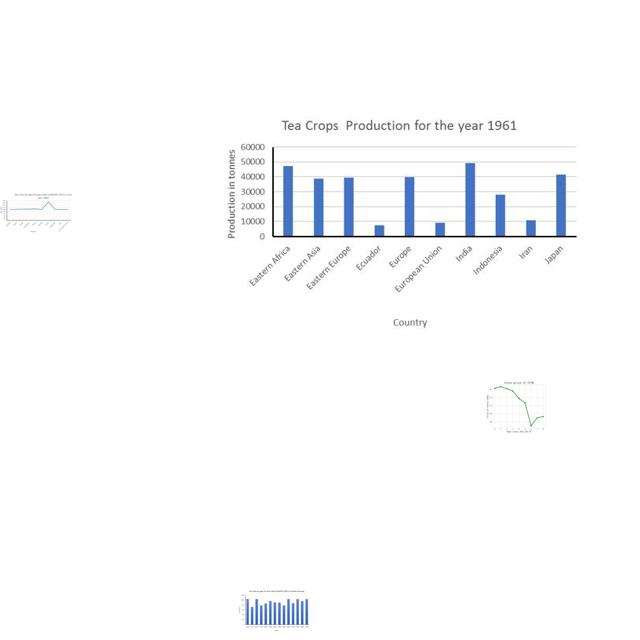Graph: (215, 111, 579, 330), (481, 378, 555, 434), (236, 589, 312, 633), (0, 193, 73, 233)
